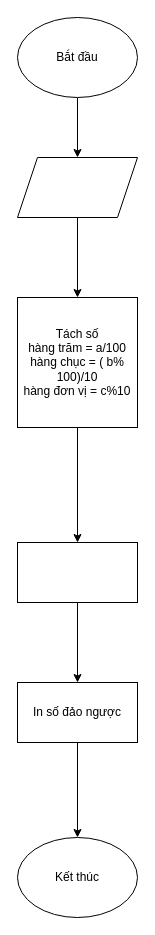
This 155x935 diagram has some shape labels left out. Each missing label, with the centre of its shape:
Nhập số có 3 chữ số abc: point (77, 187)
số đảo ngược = c*100+b*10+c: point (77, 572)
